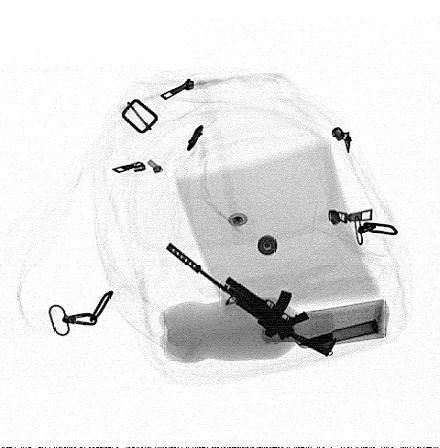Bullet: (298, 320, 379, 347)
Gun: (167, 242, 337, 357)
